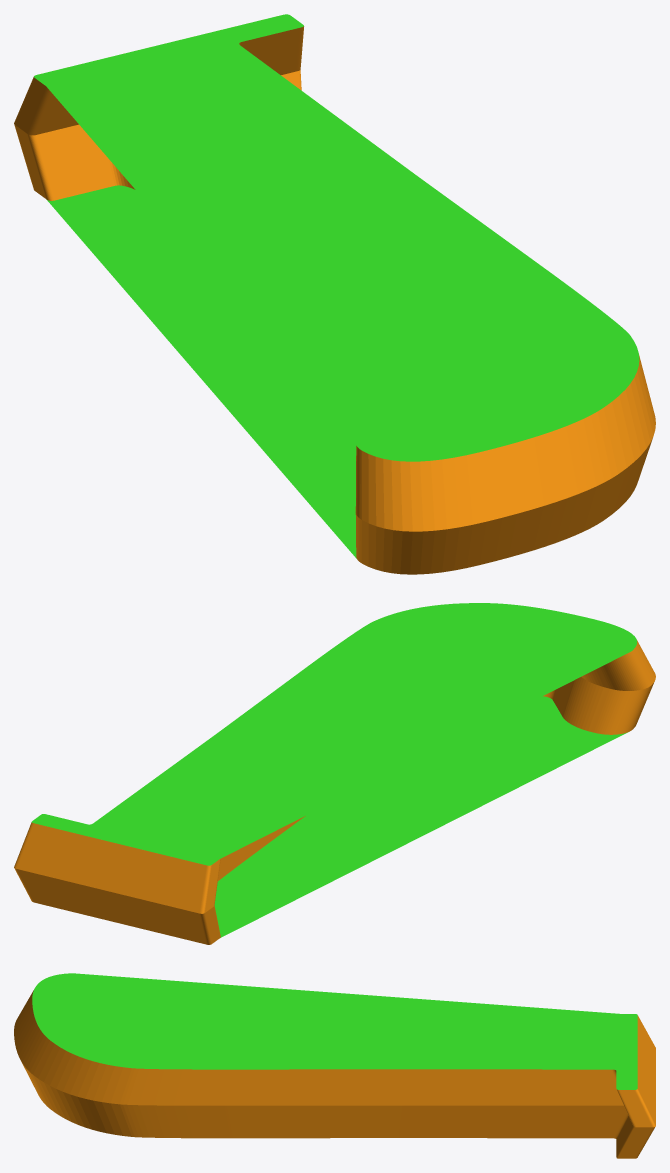
The picture shows the model from 3 angles, top to bottom: view 1: azimuth 30°, elevation 25°; view 2: azimuth 150°, elevation 25°; view 3: azimuth 270°, elevation 25°; orthographic projection. The views are drawn at different scales.
Visible parts, largest first — view 1: Text.001; view 2: Text.001; view 3: Text.001.
Part boxes in pixels (x1=…): Text.001: x1=14, y1=14, x2=655, y2=574; Text.001: x1=14, y1=603, x2=655, y2=944; Text.001: x1=14, y1=973, x2=655, y2=1158.
Bounding box in the file's own units: 36.37 × 9.43 × 79.82.
